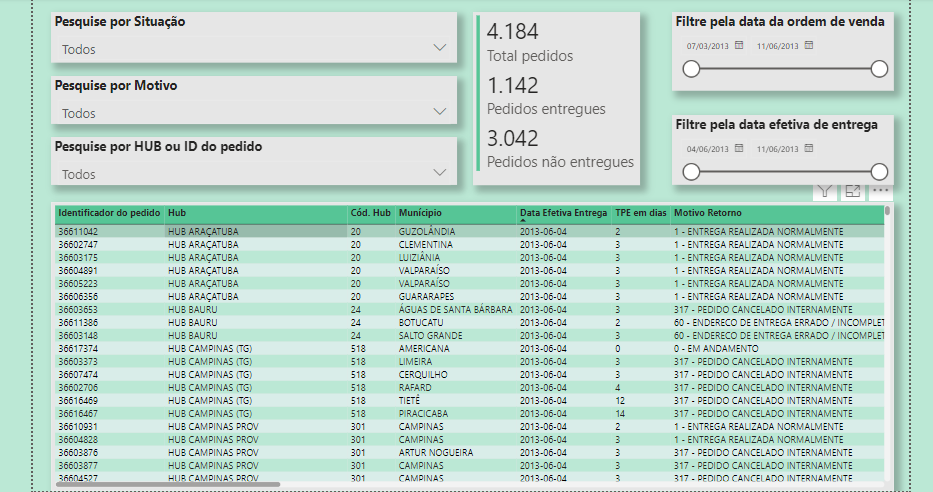

The page's visual inventory and layout, read from the dashboard file:
{"tool":"powerbi","page":{"name":"Dados dos Pedidos","canvas":[1280,720],"ordinal":4},"visuals":[{"type":"tableEx","fields":{"Values":["sheet01.id_pedido","sheet01.Praça_hub","sheet01.Cód. Praça","sheet01.Munícipio","sheet01.Data Efetiva Entrega","Sum(sheet01.Subtração)","sheet01.Motivo Retorno","sheet01.Situação","sheet01.Canhoto","sheet01.DDD","sheet01.Descr. Projeto","sheet01.Descr. Tipo Entrega"]},"box":[26.3,297.9,1231.2,422.1],"z":0},{"type":"slicer","title":"Pesquise por Situação","fields":{"Values":["sheet01.Situação"]},"box":[26.3,20.4,592.9,74.5],"z":1000},{"type":"slicer","title":"Pesquise por Motivo","fields":{"Values":["sheet01.Motivo Retorno"]},"box":[26.3,113.9,592.9,70.1],"z":2000},{"type":"slicer","title":"Filtre pela data da ordem de venda","fields":{"Values":["sheet01.Data Ordem Venda"]},"box":[933.2,20.4,324.2,115.4],"z":3000},{"type":"slicer","title":"Filtre pela data efetiva de entrega","fields":{"Values":["sheet01.Data Efetiva Entrega"]},"box":[933.2,170.9,324.2,102.2],"z":4000},{"type":"multiRowCard","fields":{"Values":["sheet01.Total Pedidos","sheet01.Pedidos Entregues","sheet01.Pedidos_N_Entregues"]},"box":[642.6,20.4,243.9,252.7],"z":5000},{"type":"slicer","title":"Pesquise por HUB ou ID do pedido","fields":{"Values":["sheet01.Praça_hub","sheet01.id_pedido"]},"box":[26.3,203,592.9,70.1],"z":6000}]}

Visuals, with their boxes on the page's 1280x720 design canvas (x1, y1, x2, y2). These are canvas units, not pixel positions in the 933x492 screenshot, which may show the page scaled, cropped or inside an application window:
tableEx - sheet01.id_pedido x sheet01.Praça_hub: (x1=26, y1=298, x2=1258, y2=720)
"Pesquise por Situação" slicer: (x1=26, y1=20, x2=619, y2=95)
"Pesquise por Motivo" slicer: (x1=26, y1=114, x2=619, y2=184)
"Filtre pela data da ordem de venda" slicer: (x1=933, y1=20, x2=1257, y2=136)
"Filtre pela data efetiva de entrega" slicer: (x1=933, y1=171, x2=1257, y2=273)
multiRowCard - sheet01.Total Pedidos x sheet01.Pedidos Entregues: (x1=643, y1=20, x2=886, y2=273)
"Pesquise por HUB ou ID do pedido" slicer: (x1=26, y1=203, x2=619, y2=273)
